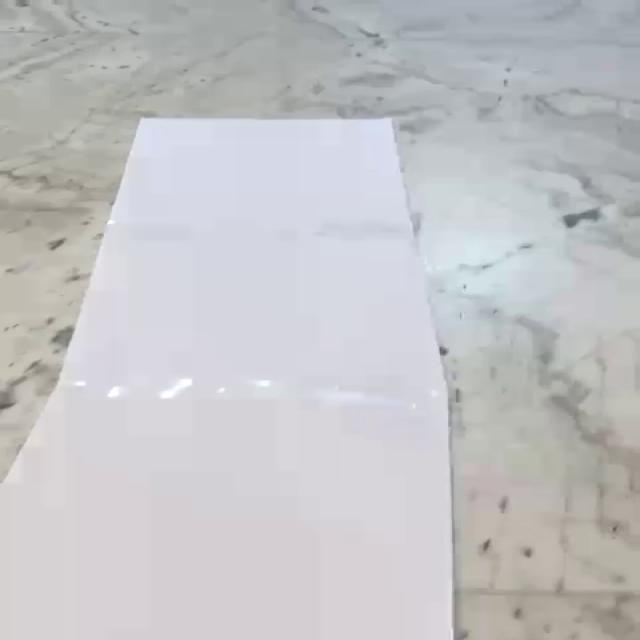road: (0, 118, 456, 640)
